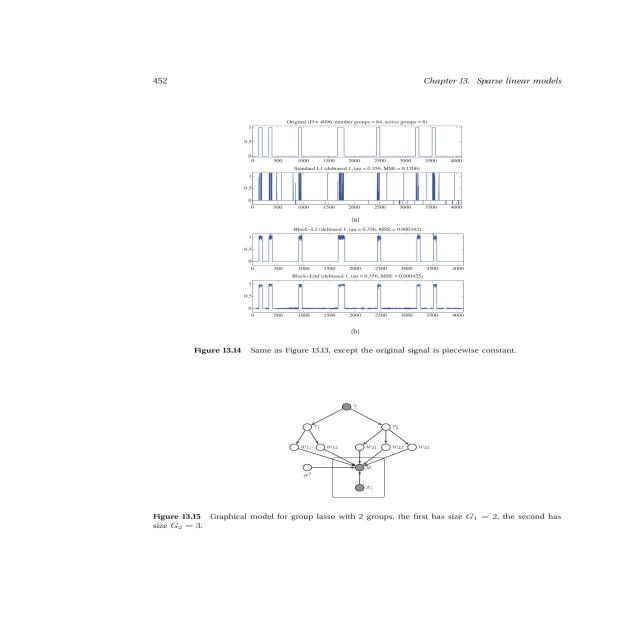diagram: (150, 92, 561, 540)
